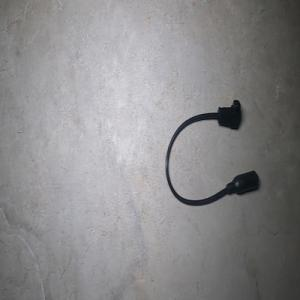Wire: (165, 99, 259, 206)
